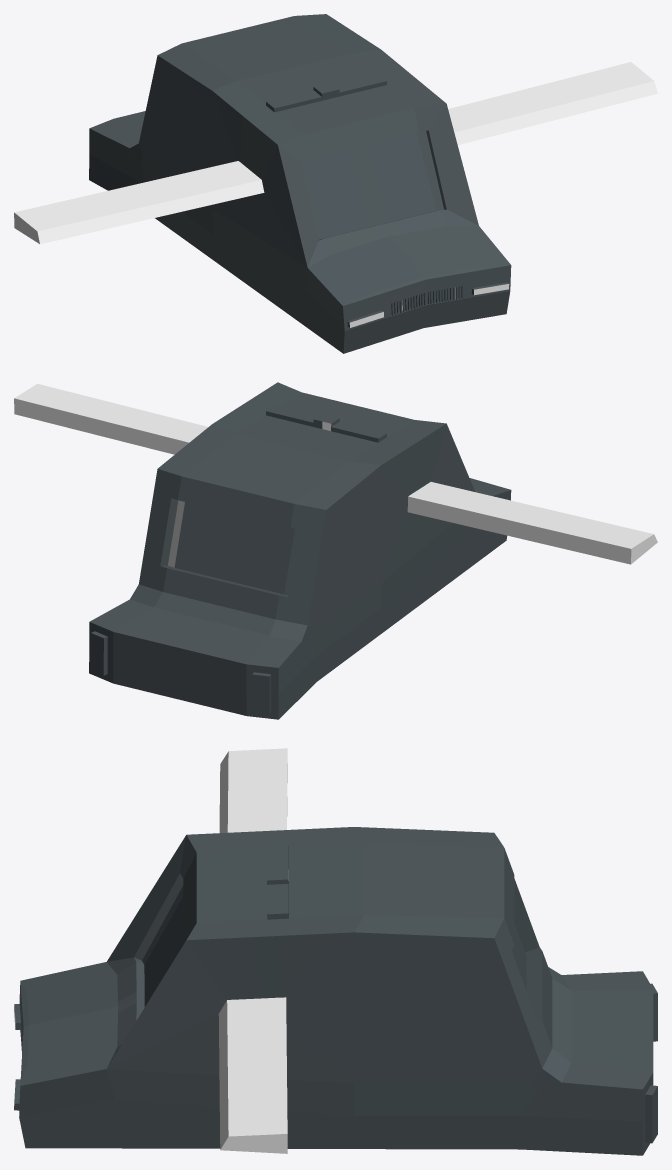
File: Police_car_plane.fbx
3 views of the same model, one above another, from view 1: azimuth 30°, elevation 25°; view 2: azimuth 150°, elevation 25°; view 3: azimuth 270°, elevation 25° (orthographic). The views are drawn at different scales.
Parts seen in each view (by area): view 1: Cube; view 2: Cube; view 3: Cube.
Boxes of the visible parts, bbox=[...] form: Cube: bbox=[14, 14, 657, 353]; Cube: bbox=[14, 382, 657, 719]; Cube: bbox=[14, 748, 657, 1155].
Bounding box in the file's own units: 1099 × 296 × 774.
